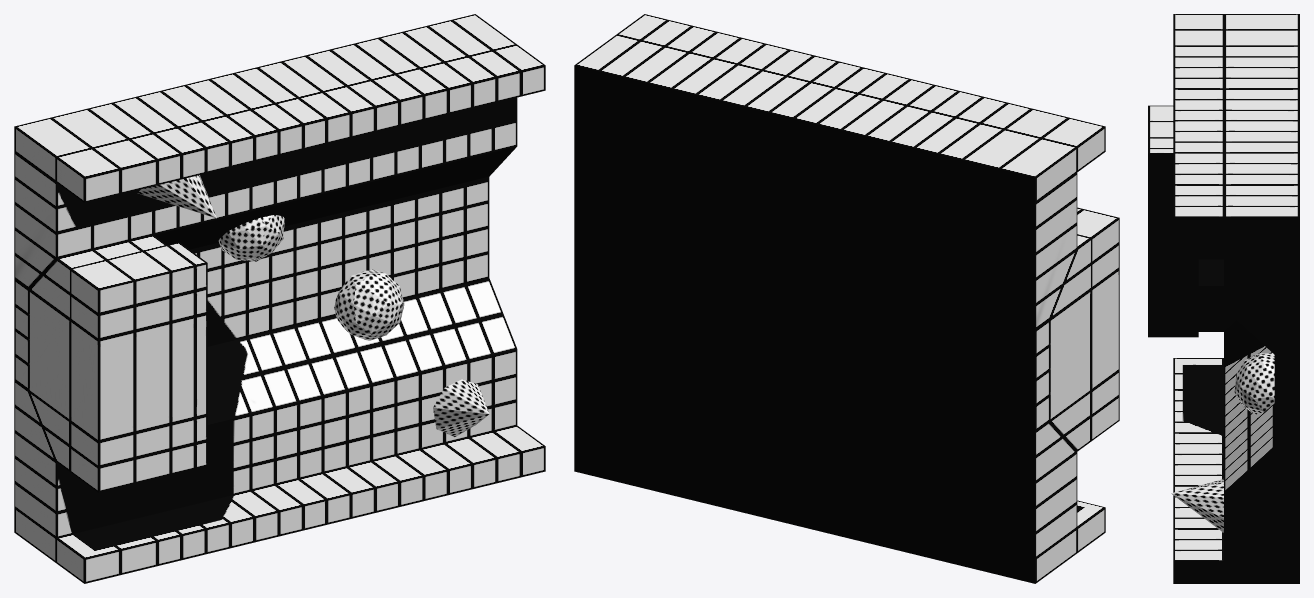
The model's file is map1.glb.
3 views of the same model, side by side, from view 1: azimuth 30°, elevation 25°; view 2: azimuth 150°, elevation 25°; view 3: azimuth 270°, elevation 25° (orthographic). The views are drawn at different scales.
Visible parts, largest first — view 1: Map.008, Map.003, Map.009, Map, Map.001, Map.002, Map.004, Icosphere, Map.007, Cone, Icosphere.001, Cone.001 (+1 smaller); view 2: Map.009, Map.008, Map.001, Map.003, Map.002, Map, Map.004, Map.007, Map.006; view 3: Map.003, Map.008, Map.002, Map, Map.009, Map.001, Map.006, Icosphere, Cone, Map.005.
Boxes of the visible parts, left/top/right/bottom form: Map.008: left=14, top=278, right=517, bottom=537; Map.003: left=14, top=14, right=545, bottom=202; Map.009: left=14, top=97, right=517, bottom=288; Map: left=70, top=242, right=207, bottom=492; Map.001: left=14, top=177, right=489, bottom=389; Map.002: left=14, top=425, right=545, bottom=583; Map.004: left=28, top=289, right=70, bottom=420; Icosphere: left=334, top=269, right=404, bottom=340; Map.007: left=29, top=235, right=166, bottom=319; Cone: left=433, top=379, right=489, bottom=436; Icosphere.001: left=218, top=215, right=284, bottom=261; Cone.001: left=137, top=175, right=216, bottom=218; Map.009: left=574, top=90, right=1077, bottom=329; Map.008: left=574, top=319, right=1077, bottom=558; Map.001: left=574, top=217, right=1049, bottom=431; Map.003: left=574, top=14, right=1105, bottom=202; Map.002: left=574, top=446, right=1105, bottom=583; Map: left=1077, top=207, right=1119, bottom=441; Map.004: left=1049, top=289, right=1091, bottom=420; Map.007: left=1049, top=235, right=1091, bottom=319; Map.006: left=1049, top=391, right=1091, bottom=451; Map.003: left=1173, top=14, right=1299, bottom=239; Map.008: left=1224, top=320, right=1299, bottom=560; Map.002: left=1173, top=358, right=1299, bottom=583; Map: left=1148, top=105, right=1198, bottom=337; Map.009: left=1224, top=240, right=1299, bottom=354; Map.001: left=1274, top=354, right=1299, bottom=446; Map.006: left=1198, top=259, right=1236, bottom=331; Icosphere: left=1234, top=353, right=1274, bottom=414; Cone: left=1171, top=479, right=1223, bottom=532; Map.005: left=1198, top=240, right=1223, bottom=259.
Size of the model in its own units: 19 by 16 by 6.
2 materials, 2 textured.
